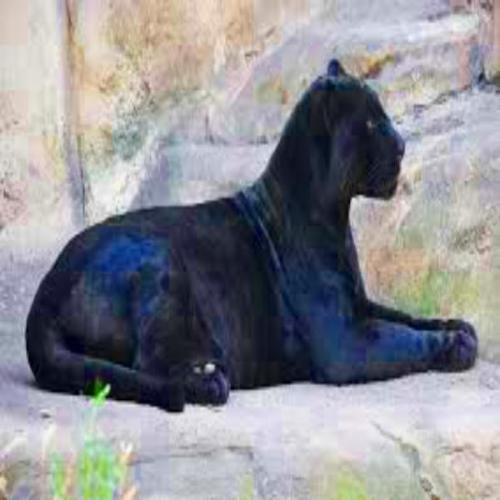panther-endangered: (24, 59, 478, 413)
